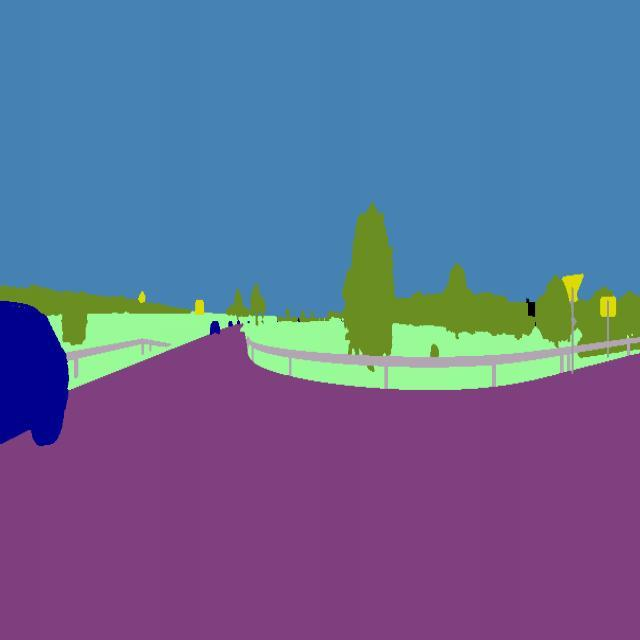safe: (0, 296, 73, 458), (203, 313, 224, 342)
